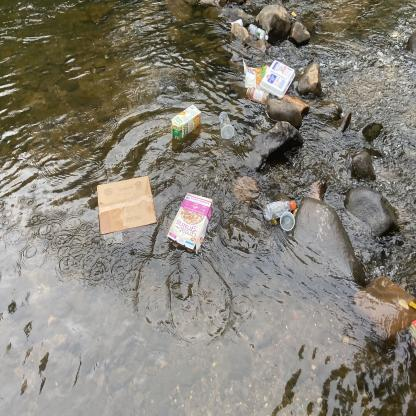trash: (90, 168, 161, 260), (164, 184, 218, 264), (165, 98, 206, 147), (258, 58, 298, 100), (237, 53, 269, 91), (259, 196, 299, 224), (214, 106, 236, 144), (244, 83, 271, 111), (278, 208, 296, 236), (246, 22, 271, 42), (406, 316, 416, 349), (229, 15, 245, 34)
